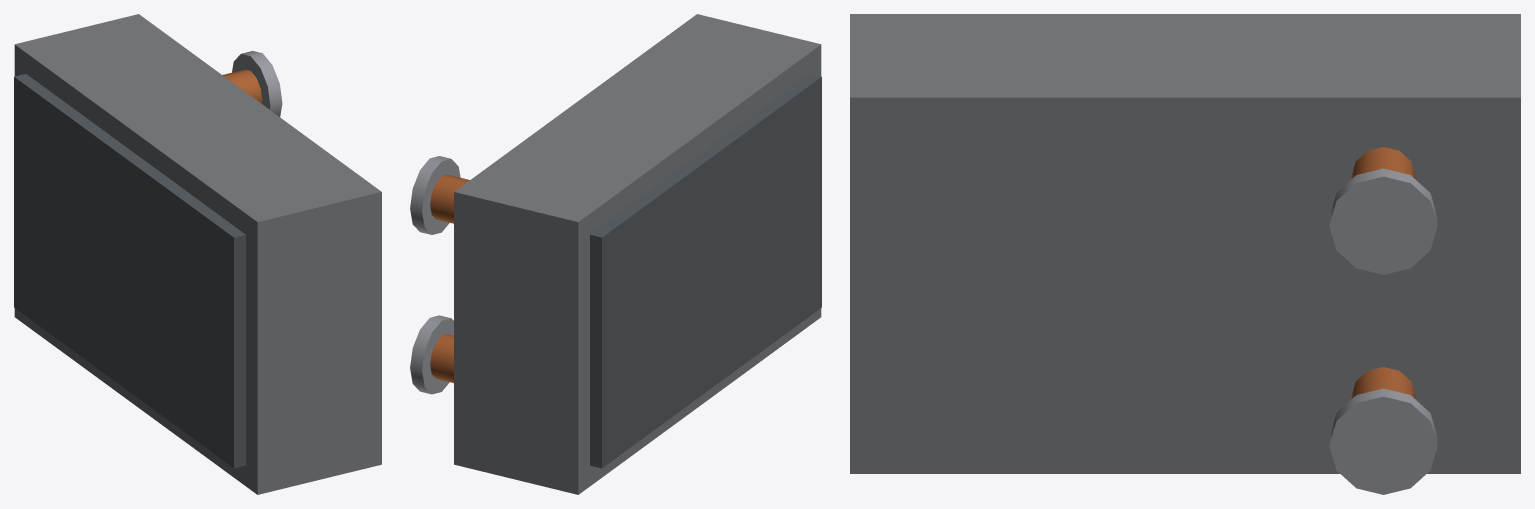
The model's file is cr1_service_module.obj.
3 renders of one model, left to right at view 1: azimuth 30°, elevation 25°; view 2: azimuth 150°, elevation 25°; view 3: azimuth 270°, elevation 25°, orthographic. The views are drawn at different scales.
Visible parts, largest first — view 1: cr1_service_module; view 2: cr1_service_module; view 3: cr1_service_module.
Part boxes in pixels (bbox=[...]): cr1_service_module: bbox=[14, 14, 381, 494]; cr1_service_module: bbox=[410, 14, 821, 494]; cr1_service_module: bbox=[850, 14, 1520, 494].
Bounding box in the file's own units: 1.05 × 1.3 × 2.1.
